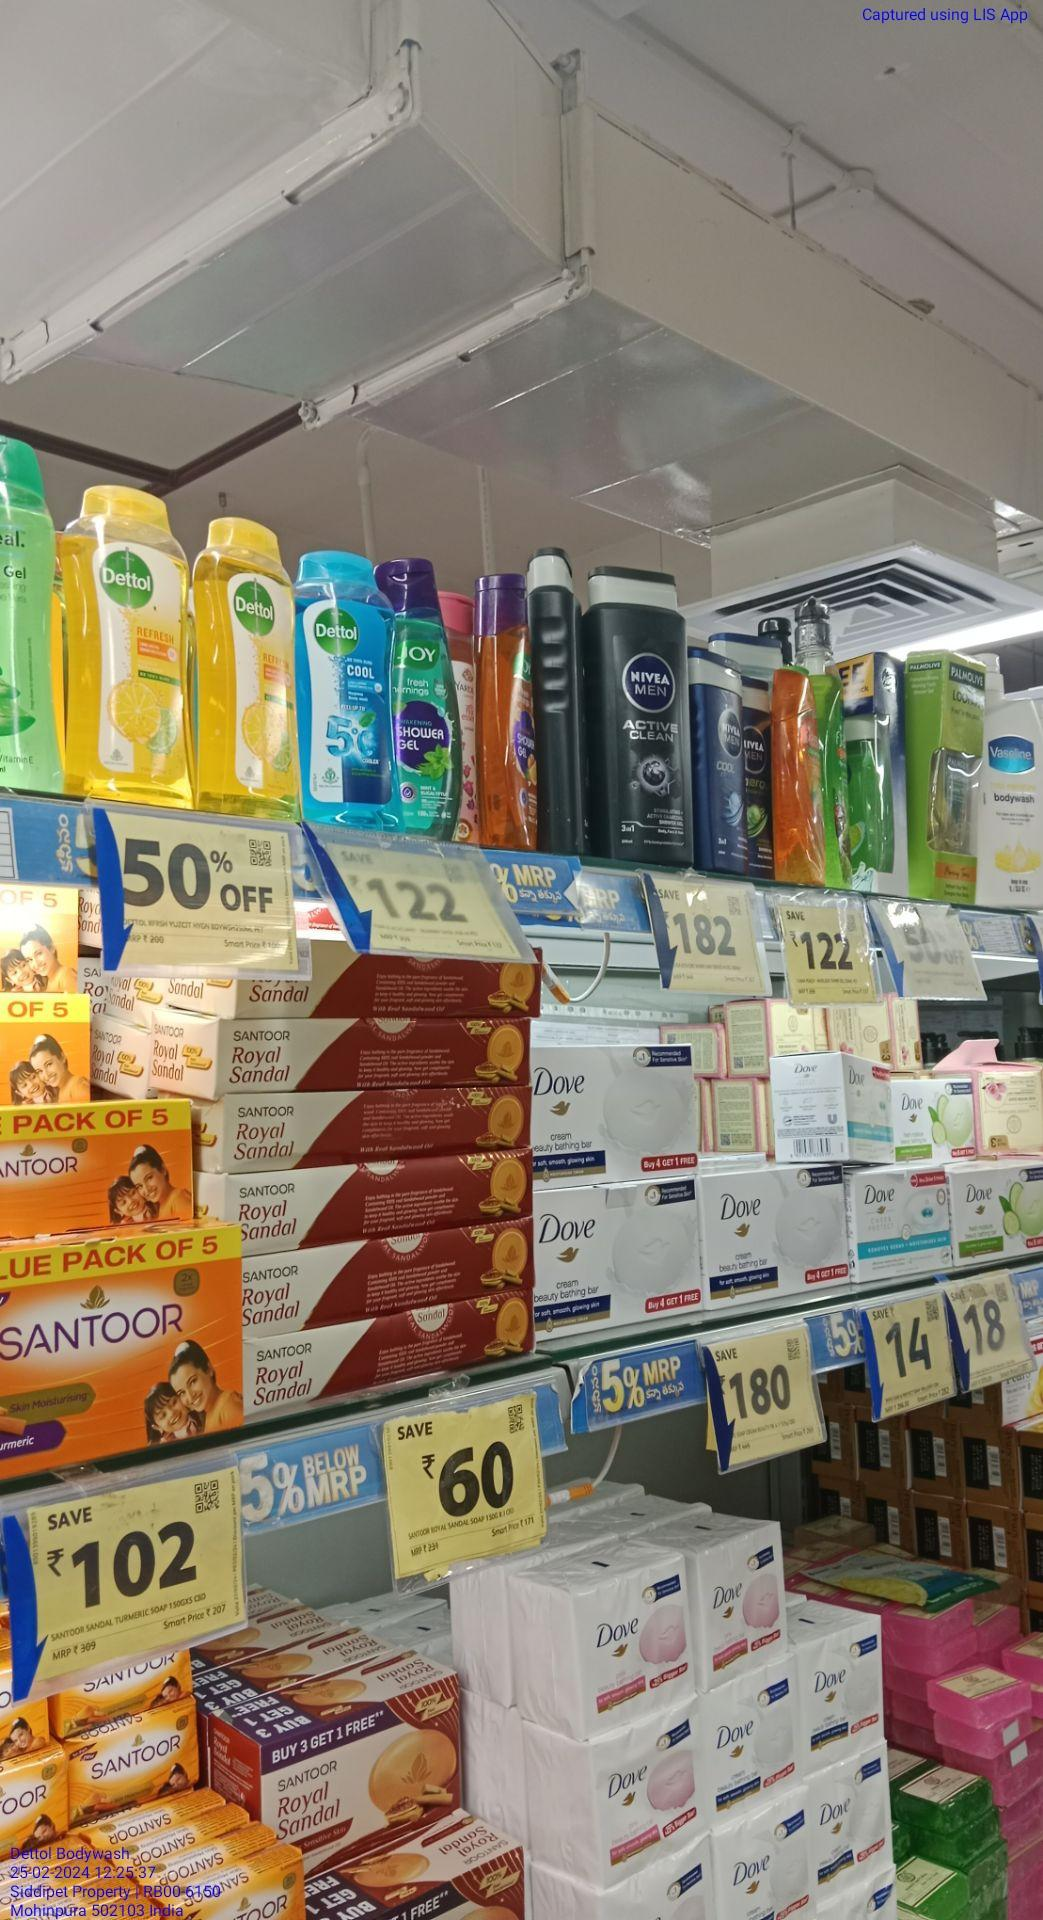Dettol_Bodywash_Cool: (302, 551, 394, 827)
Dettol_Bodywash_Refresh: (66, 484, 189, 801), (198, 516, 295, 809)
Joy_Shower_Gel_Mandarin_and_Lemongrass_250ML: (478, 574, 538, 851)
Joy_Shower_Gel_Mint_and_Eucalyptus_250ML: (397, 556, 462, 837)
